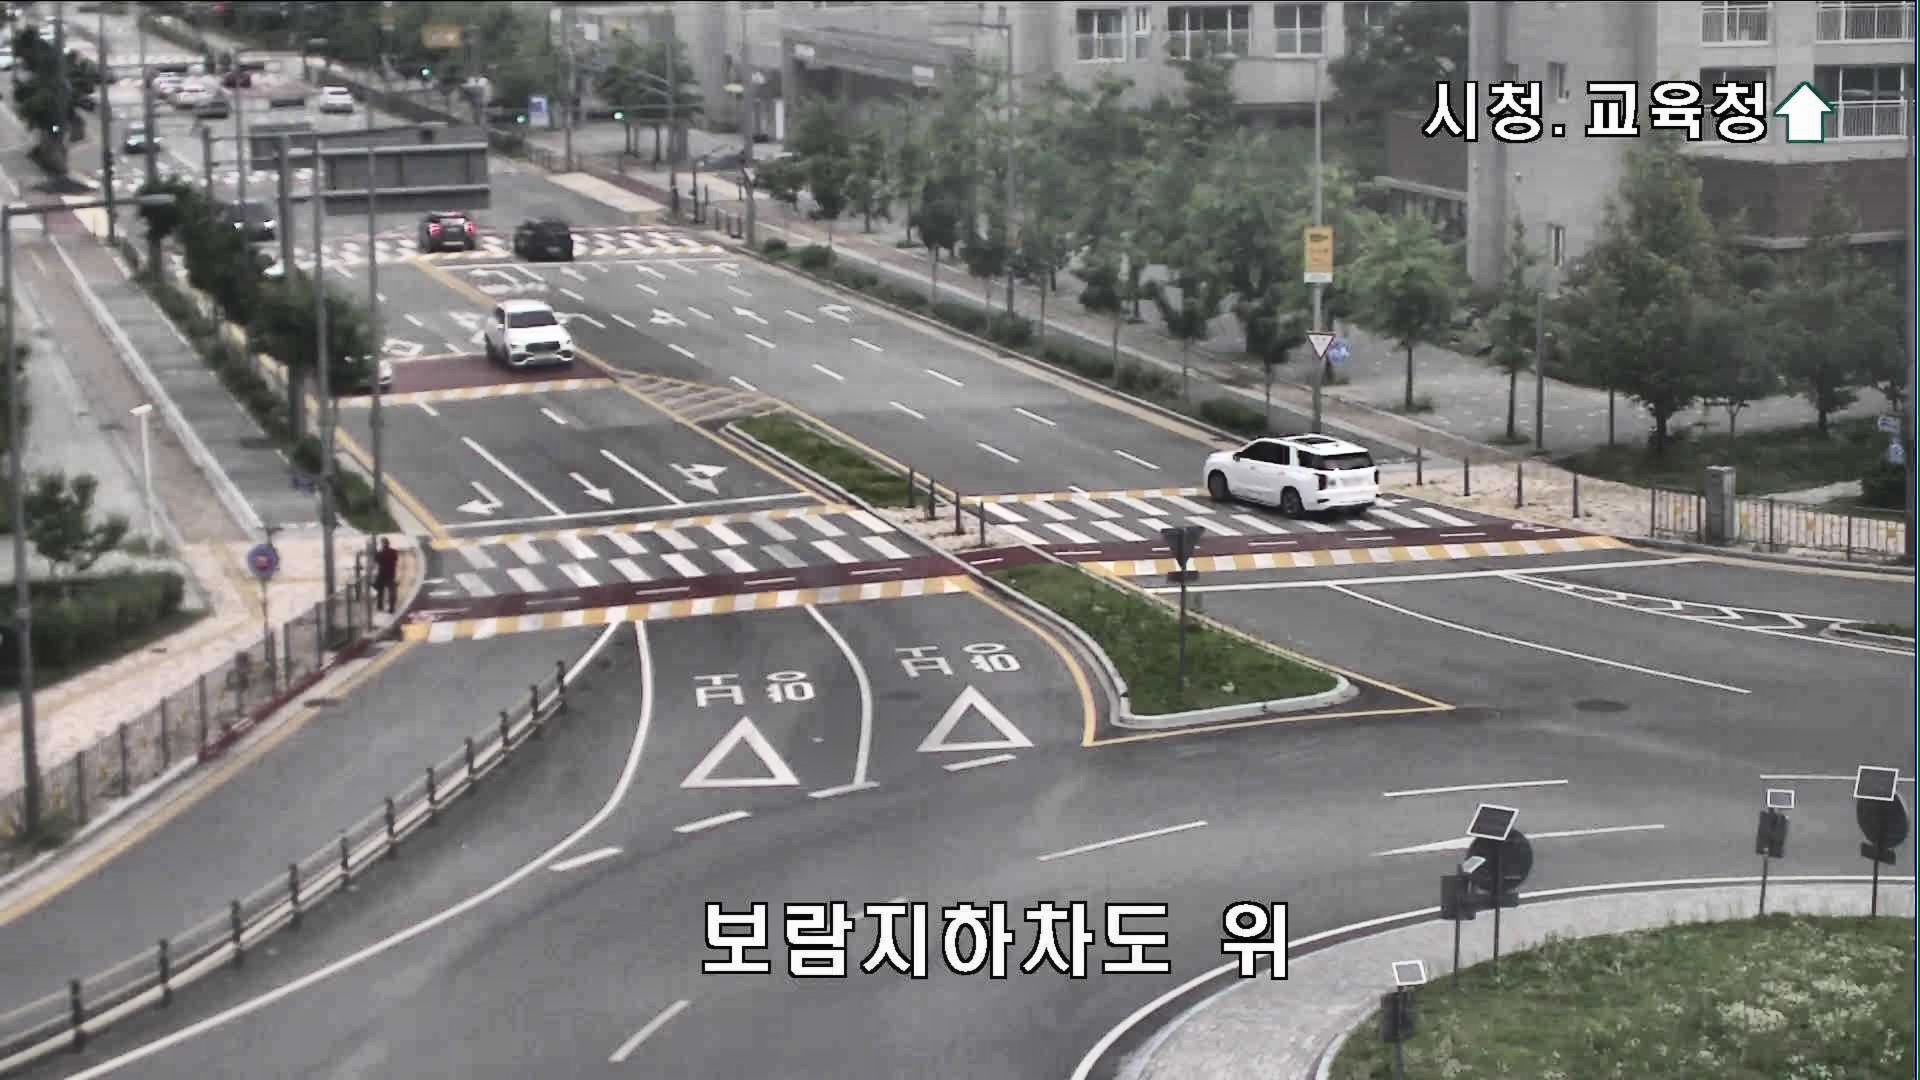sidewalk: (375, 535, 400, 615)
